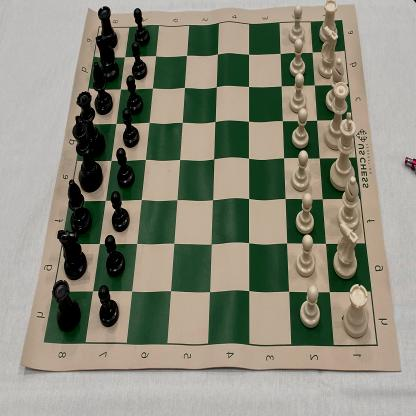black-bishop: (68, 178, 91, 233), (92, 62, 113, 114)
black-king: (74, 114, 104, 192)
black-knight: (58, 230, 87, 280), (95, 35, 119, 80)
black-pawn: (98, 285, 119, 327), (105, 234, 125, 276), (116, 148, 135, 189), (112, 192, 130, 232), (122, 109, 140, 148), (127, 74, 144, 115), (130, 43, 148, 79), (133, 7, 149, 46)
black-queen: (76, 90, 105, 155)
black-rook: (53, 280, 81, 332), (98, 6, 117, 48)
white-bishop: (337, 176, 360, 230), (326, 58, 346, 112)
white-king: (329, 112, 356, 191)
white-knight: (333, 221, 360, 280), (318, 26, 338, 79)
white-pawn: (300, 286, 322, 329), (295, 193, 317, 235), (296, 234, 316, 278), (290, 108, 310, 148), (291, 150, 310, 191), (290, 73, 307, 114), (288, 3, 304, 44), (289, 39, 306, 76)
white-queen: (324, 81, 349, 150)
white-rook: (343, 283, 369, 338), (319, 0, 338, 43)
